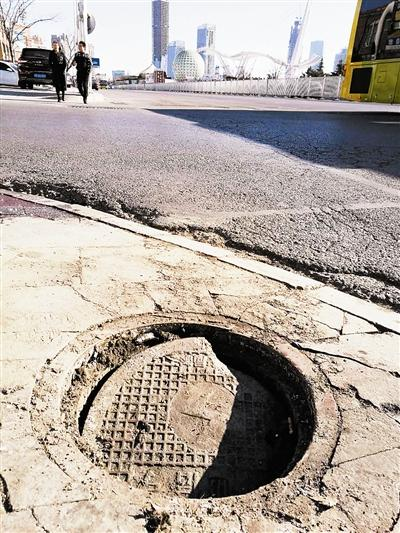broke: (24, 297, 372, 515)
